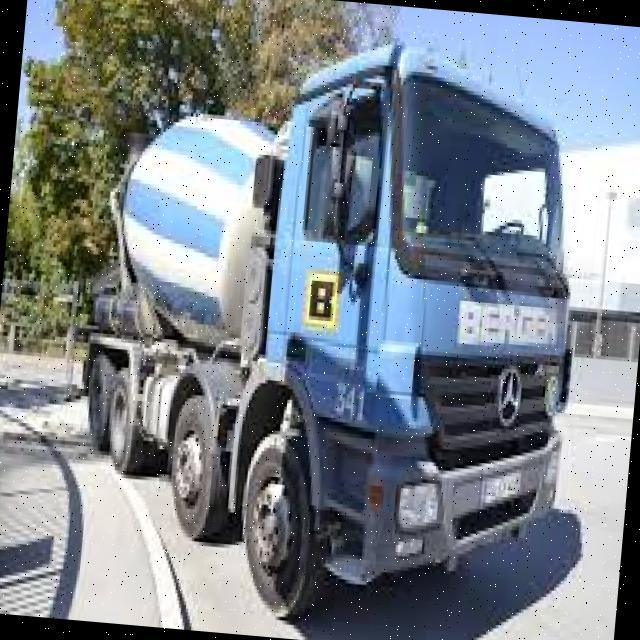Mixer Truck: (48, 8, 603, 640)
